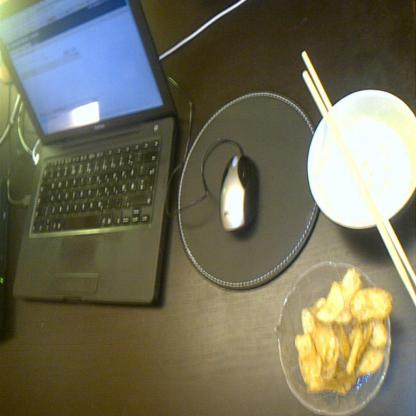board: (3, 0, 175, 322)
